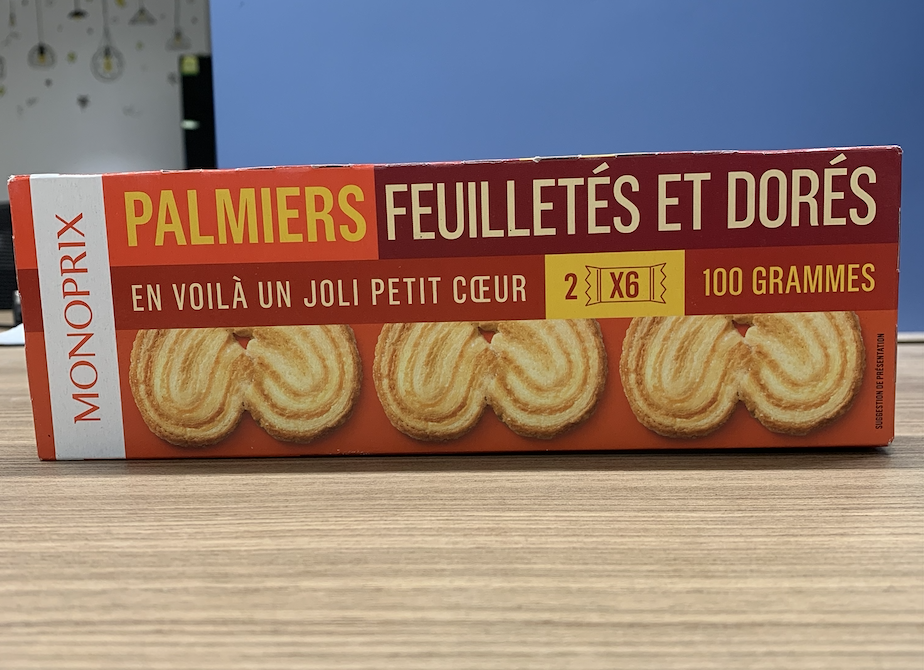cookies_100g-199g: (36, 176, 885, 441)
